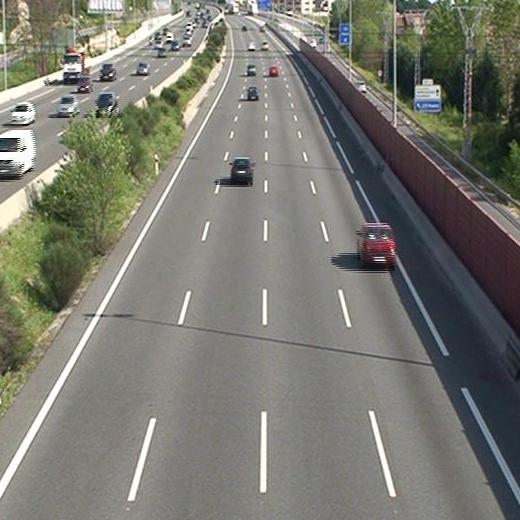car: (356, 224, 394, 268), (230, 157, 254, 182), (247, 86, 258, 100), (268, 65, 279, 77), (246, 63, 256, 74)
